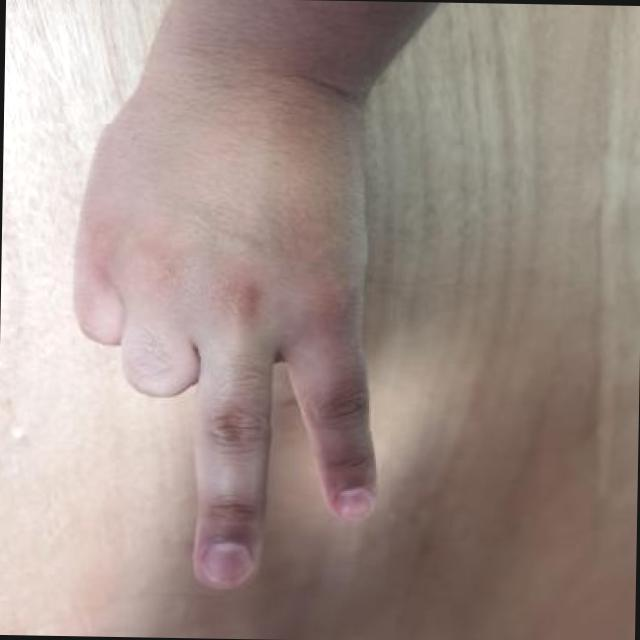N: (46, 123, 395, 603)
